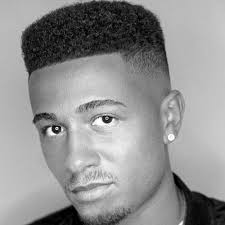black_male: (19, 32, 184, 215)
